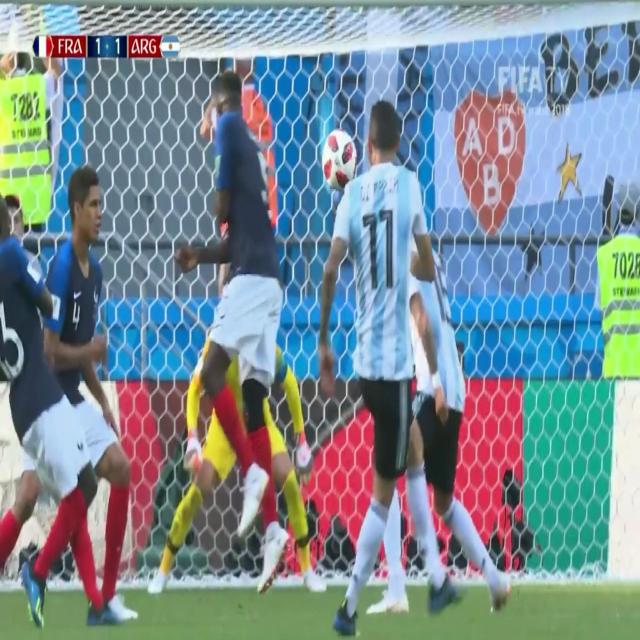ball: (317, 124, 358, 194)
player: (150, 61, 318, 606), (319, 77, 448, 623), (144, 314, 324, 594), (42, 142, 142, 639), (0, 186, 106, 632)
